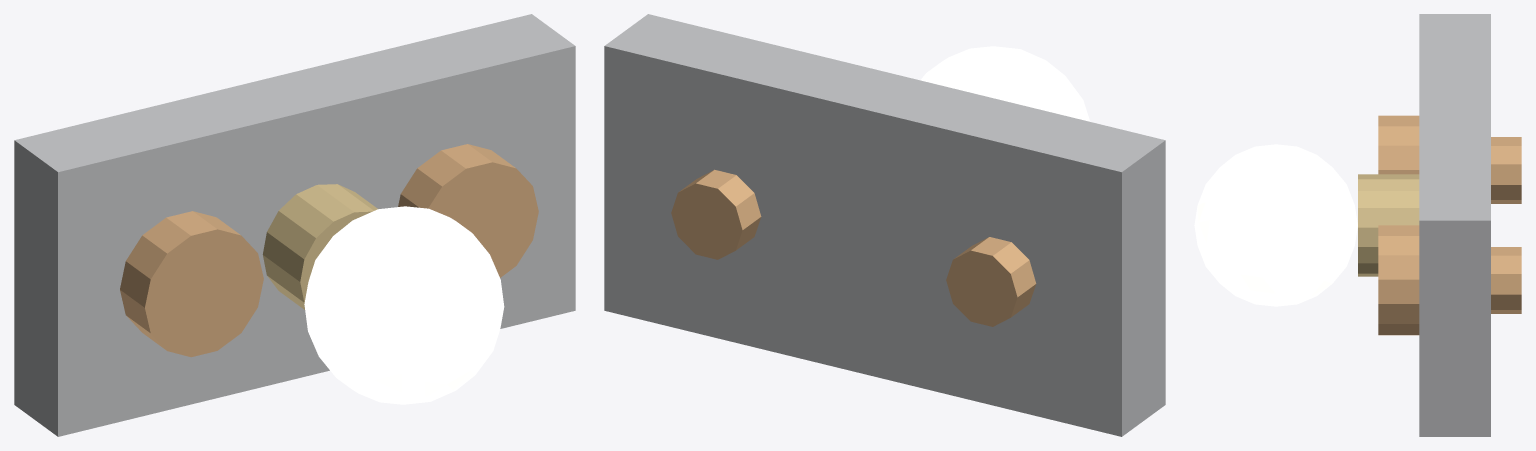
The model's file is snap_lamp.glb.
The picture shows the model from 3 angles, left to right: view 1: azimuth 30°, elevation 25°; view 2: azimuth 150°, elevation 25°; view 3: azimuth 270°, elevation 25°; orthographic projection. The views are drawn at different scales.
Visible parts, largest first — view 1: plastic_gray, bulb_glass, copper, brass; view 2: plastic_gray, copper, bulb_glass; view 3: plastic_gray, bulb_glass, copper, brass.
Part boxes in pixels (box(x1,y1,x2,y2)): plastic_gray: box(14, 14, 575, 436); bulb_glass: box(304, 206, 504, 404); copper: box(120, 144, 538, 357); brass: box(262, 184, 377, 309); plastic_gray: box(604, 14, 1165, 436); copper: box(671, 169, 1036, 326); bulb_glass: box(920, 46, 1089, 121); plastic_gray: box(1419, 14, 1490, 436); bulb_glass: box(1194, 144, 1357, 306); copper: box(1378, 115, 1521, 335); brass: box(1358, 174, 1419, 276).
Bounding box in the file's own units: 0.0478 × 0.0234 × 0.032.
